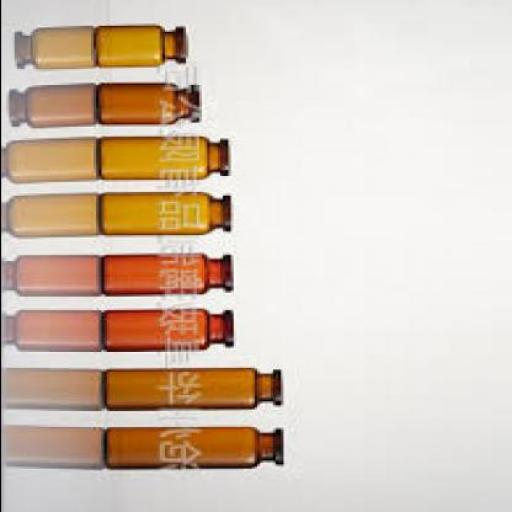glass: (105, 367, 285, 412), (103, 428, 282, 473), (100, 192, 232, 239), (97, 138, 233, 182), (103, 256, 234, 298), (103, 312, 234, 354), (97, 83, 203, 129), (92, 28, 190, 70)
